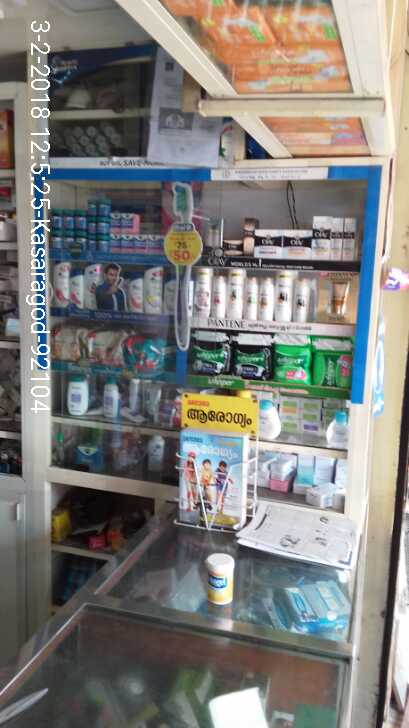vicks: (43, 196, 166, 259)
